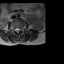CCS_normal: (16, 26, 18, 34)
LFS_normal: (20, 27, 21, 31)
LLS_normal: (18, 27, 20, 32)
RFS_normal: (13, 26, 15, 32)
RLS_normal: (15, 27, 17, 32)
